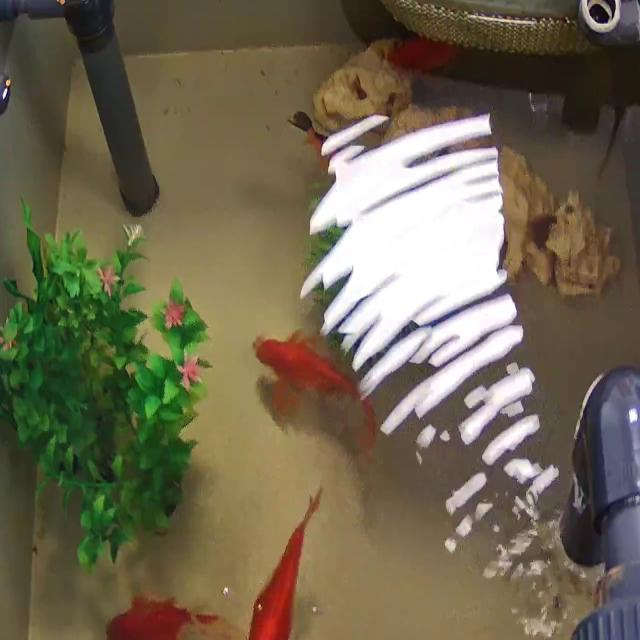fish: (255, 331, 381, 455), (238, 486, 318, 640), (101, 590, 246, 640), (389, 35, 460, 74), (291, 110, 337, 161)
